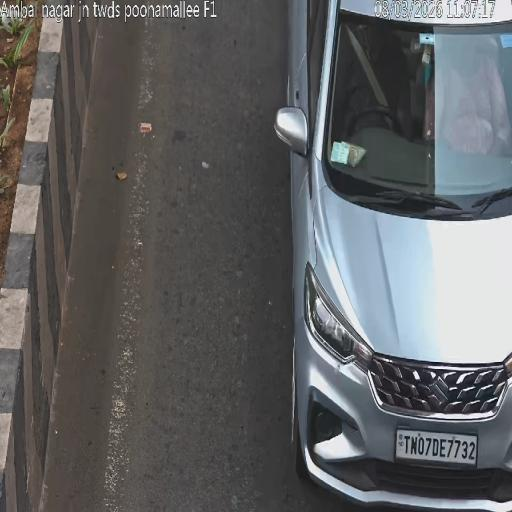person_with_seatbelt: (346, 28, 392, 130)
person_without_seatbelt: (438, 58, 496, 149)
